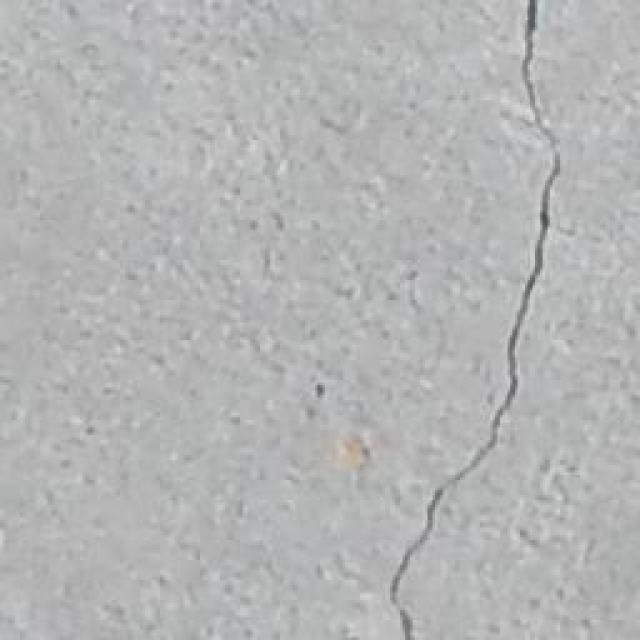concrete-crack: (390, 0, 560, 640)
